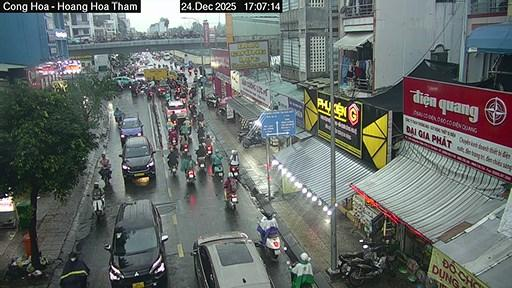motorbike: (336, 243, 387, 286), (348, 255, 386, 286), (258, 225, 280, 260), (336, 252, 364, 274), (242, 133, 265, 147), (358, 238, 380, 252), (99, 166, 111, 184), (92, 196, 102, 216), (236, 130, 249, 142), (227, 193, 236, 210), (205, 94, 216, 107), (213, 165, 223, 178), (230, 165, 237, 179), (186, 170, 194, 181), (114, 113, 121, 125), (197, 157, 204, 169), (169, 163, 176, 175), (205, 144, 211, 157), (169, 136, 176, 145), (181, 143, 188, 152), (147, 91, 153, 99), (131, 88, 137, 94), (359, 239, 364, 242)
